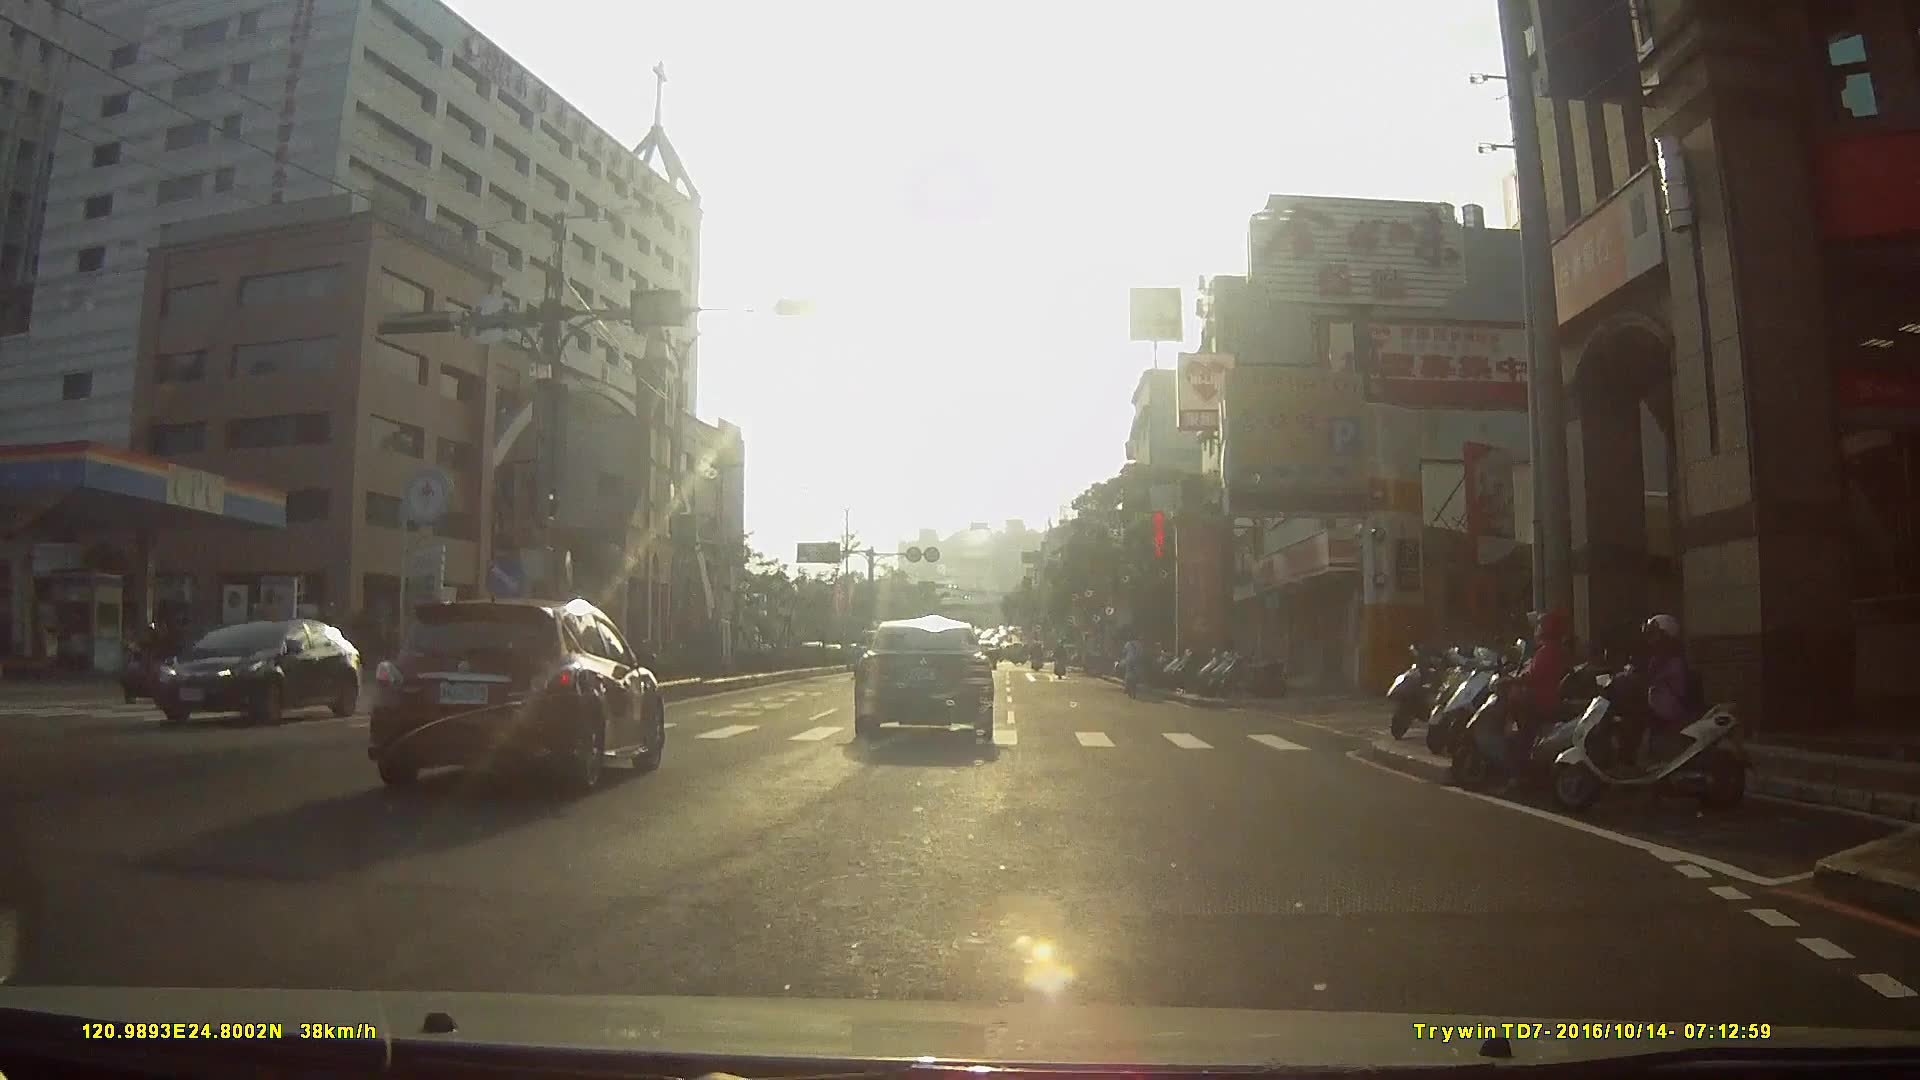rider: (1539, 609, 1762, 820), (1448, 599, 1646, 803), (121, 620, 167, 700), (1119, 629, 1148, 703)
vehicle: (371, 577, 678, 796), (145, 610, 375, 731), (847, 607, 1002, 739), (763, 607, 822, 662)
